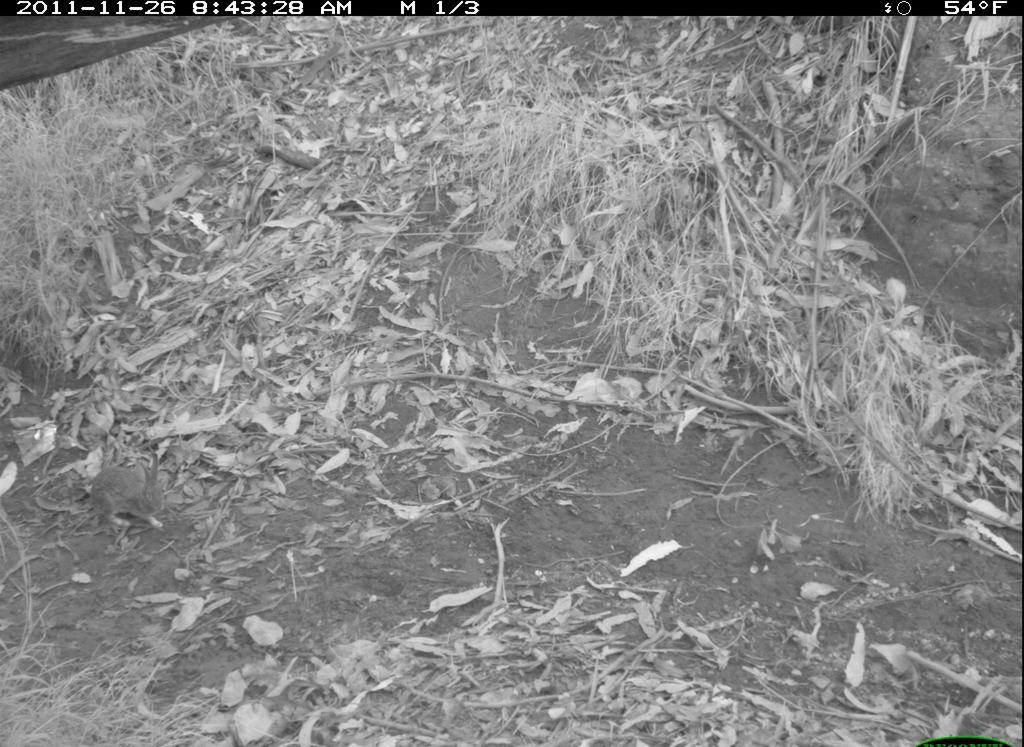rabbit: (86, 447, 185, 538)
